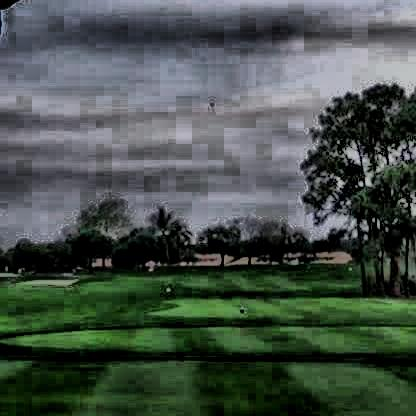golfball: (207, 98, 211, 105)
